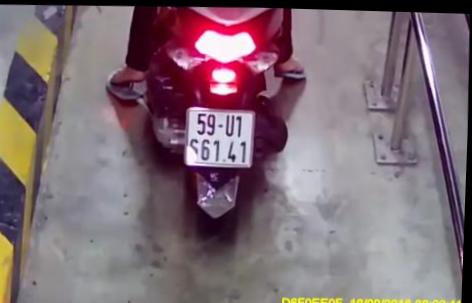LP: (182, 102, 259, 169)
